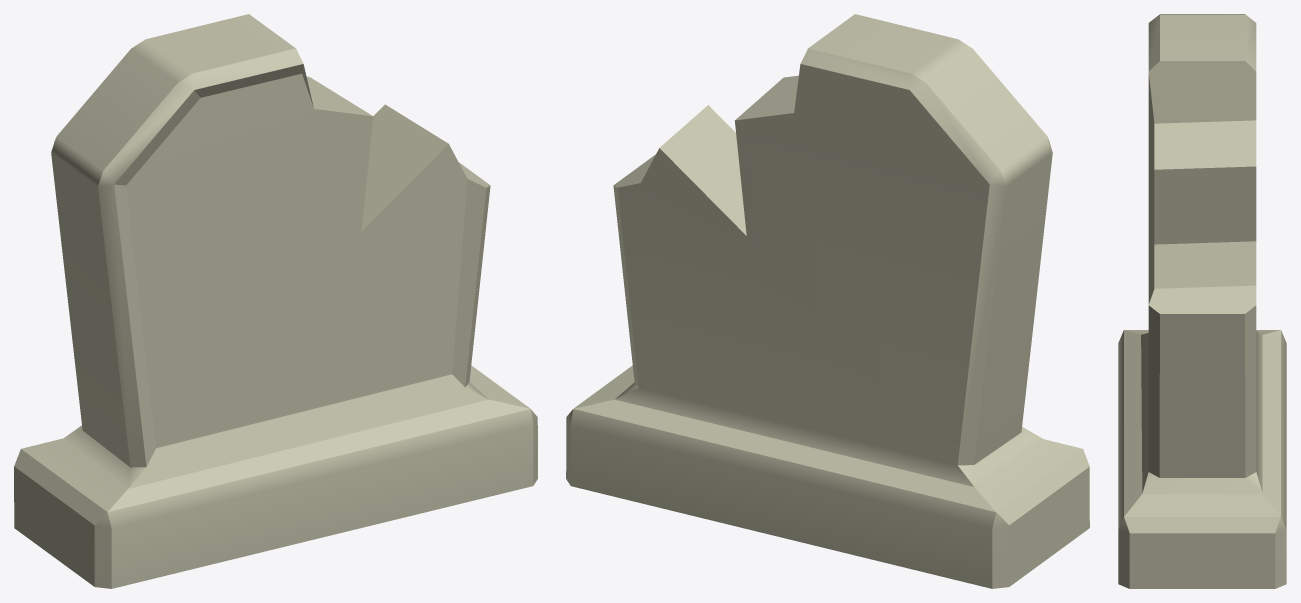
Rendered from Lapida3.fbx.
The picture shows the model from 3 angles, left to right: view 1: azimuth 30°, elevation 25°; view 2: azimuth 150°, elevation 25°; view 3: azimuth 270°, elevation 25°; orthographic projection. The views are drawn at different scales.
Parts seen in each view (by area): view 1: Lapida3; view 2: Lapida3; view 3: Lapida3.
Part boxes in pixels (box(x1,y1,x2,y2)): Lapida3: box(14, 14, 537, 588); Lapida3: box(566, 14, 1089, 588); Lapida3: box(1118, 14, 1286, 588).
Size of the model in its own units: 100 by 102 by 36.32.
